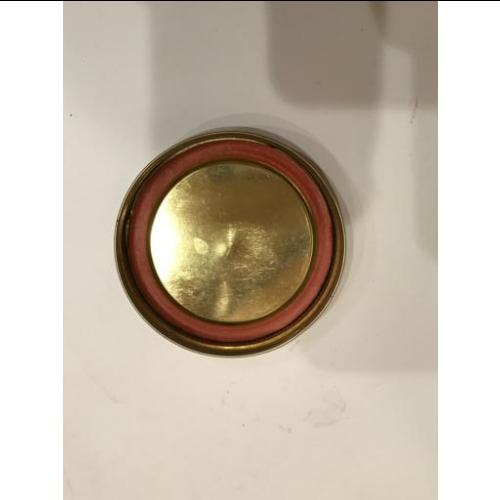metal: (117, 134, 343, 354)
